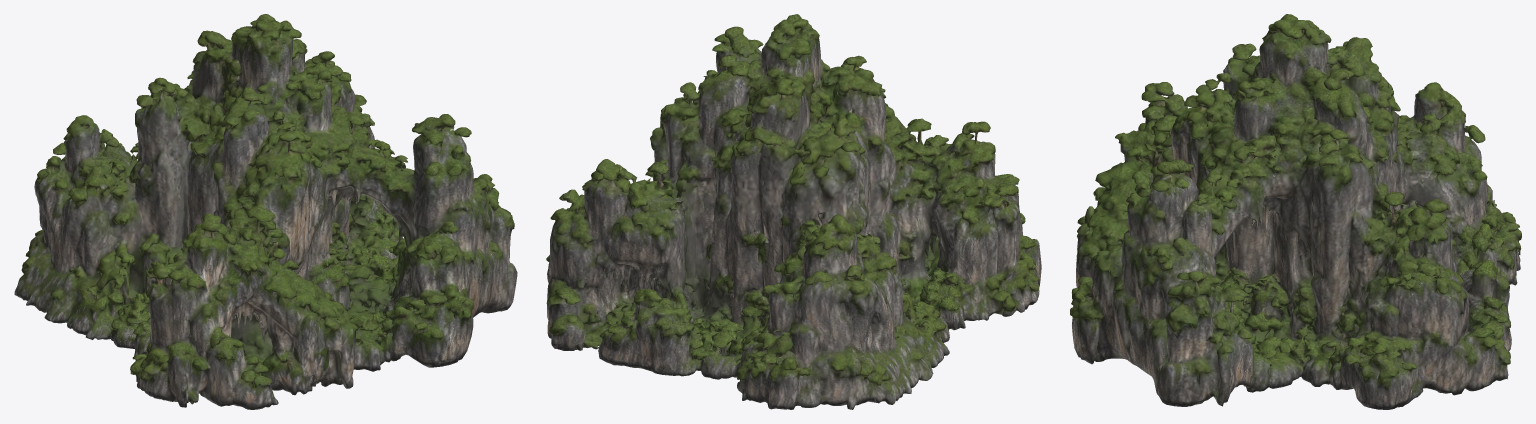
The model's file is halong-main.glb.
3 views of the same model, side by side, from view 1: azimuth 30°, elevation 25°; view 2: azimuth 150°, elevation 25°; view 3: azimuth 270°, elevation 25° (orthographic). The views are drawn at different scales.
Size of the model in its own units: 1.9 by 1.37 by 1.88.
Materials: 1 (1 with a texture image).
